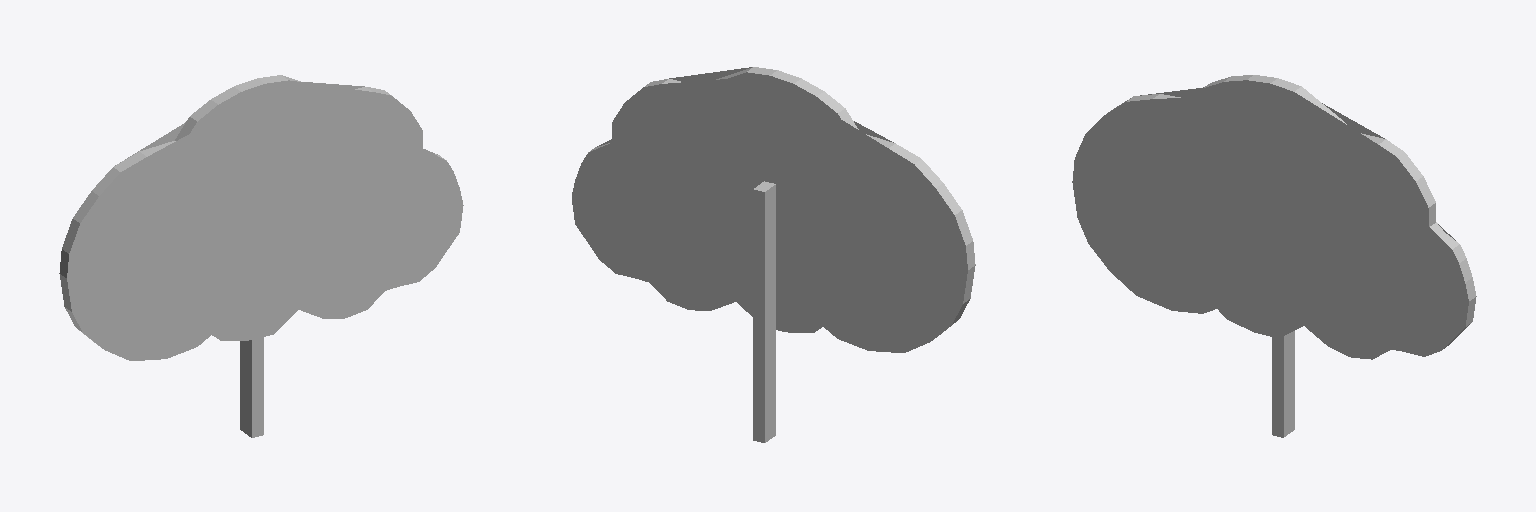
The model's file is cloud.obj.
3 views of the same model, side by side, from view 1: azimuth 30°, elevation 25°; view 2: azimuth 150°, elevation 25°; view 3: azimuth 330°, elevation 25° (orthographic).
Parts seen in each view (by area): view 1: Plane; view 2: Plane; view 3: Plane.
Boxes of the visible parts, x1,y1,x2,y2 form: Plane: [59, 75, 463, 437]; Plane: [572, 67, 975, 442]; Plane: [1072, 75, 1476, 437].
Bounding box in the file's own units: 3.25 × 2.81 × 0.2638.